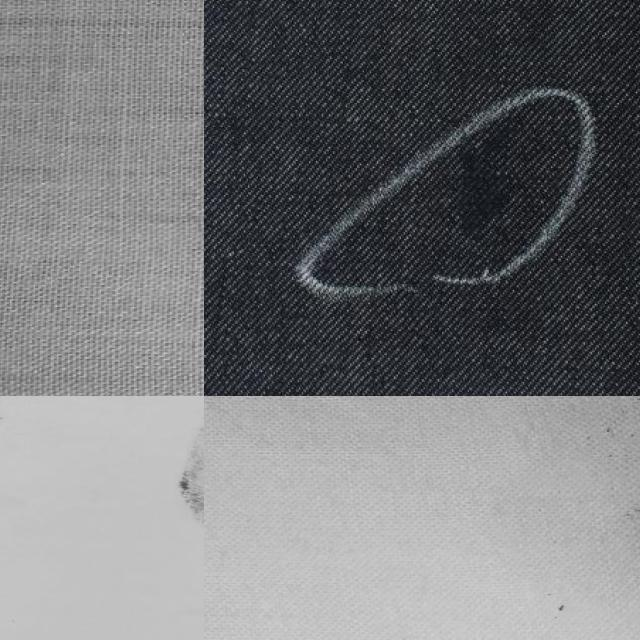Thread_other: (155, 396, 204, 595)
